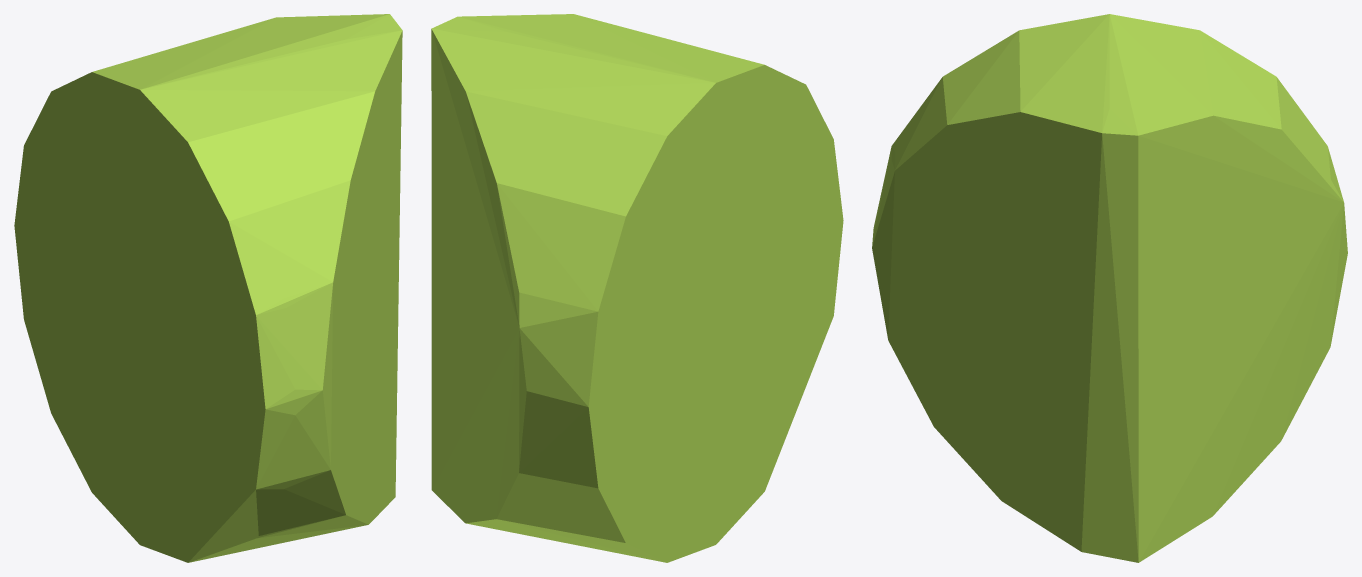
File: industrial_06397_link_respondable_respondable_respondable_respondable_respondable_respondable_coll_3.dae
The picture shows the model from 3 angles, left to right: view 1: azimuth 30°, elevation 25°; view 2: azimuth 150°, elevation 25°; view 3: azimuth 270°, elevation 25°; orthographic projection. The views are drawn at different scales.
Parts seen in each view (by area): view 1: node; view 2: node; view 3: node.
Boxes of the visible parts, x1,y1,x2,y2 form: node: (14, 14, 402, 562); node: (431, 14, 843, 562); node: (872, 14, 1347, 562).
Size of the model in its own units: 0.0707 by 0.1162 by 0.1169.
